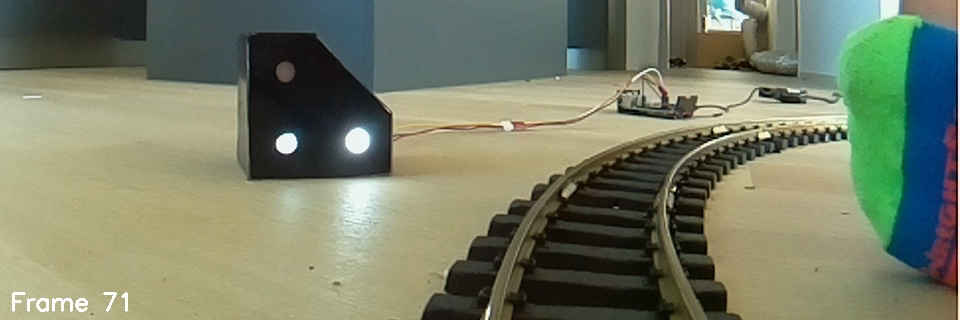Halt: (234, 29, 396, 183)
